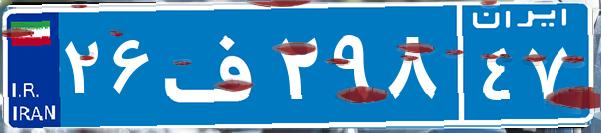2: (273, 28, 330, 110), (57, 26, 110, 107)
4: (475, 38, 525, 113)
6: (110, 28, 158, 105)
7: (525, 38, 570, 115)
8: (385, 28, 445, 110)
9: (330, 28, 385, 110)
ف: (158, 15, 273, 115)
